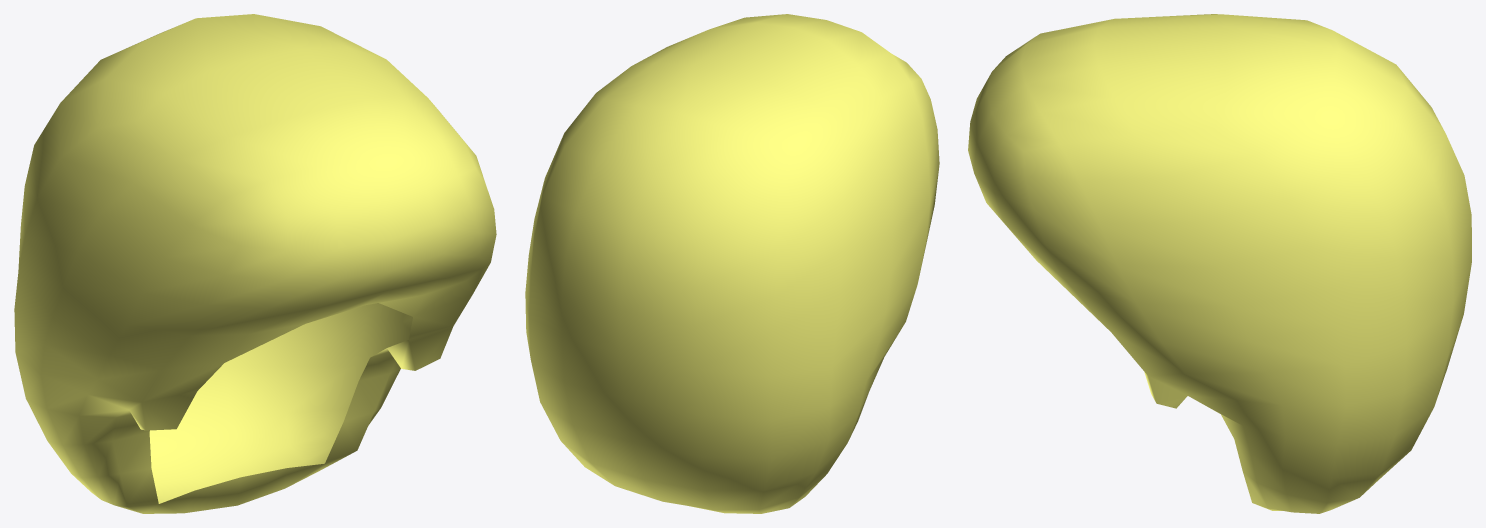
The model's file is NPC_BlondeHair4.gltf.
3 renders of one model, left to right at view 1: azimuth 30°, elevation 25°; view 2: azimuth 150°, elevation 25°; view 3: azimuth 270°, elevation 25°, orthographic. The views are drawn at different scales.
Visible parts, largest first — view 1: NPC_BlondeHair.005; view 2: NPC_BlondeHair.005; view 3: NPC_BlondeHair.005.
Part boxes in pixels (left/top/right/bottom): NPC_BlondeHair.005: left=14, top=14, right=496, bottom=513; NPC_BlondeHair.005: left=525, top=14, right=939, bottom=513; NPC_BlondeHair.005: left=968, top=14, right=1471, bottom=513.
Bounding box in the file's own units: 0.5756 × 0.675 × 0.7007.
1 material, 1 textured.
